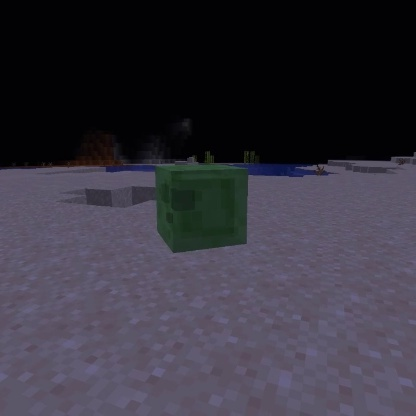slime: (150, 162, 252, 256)
